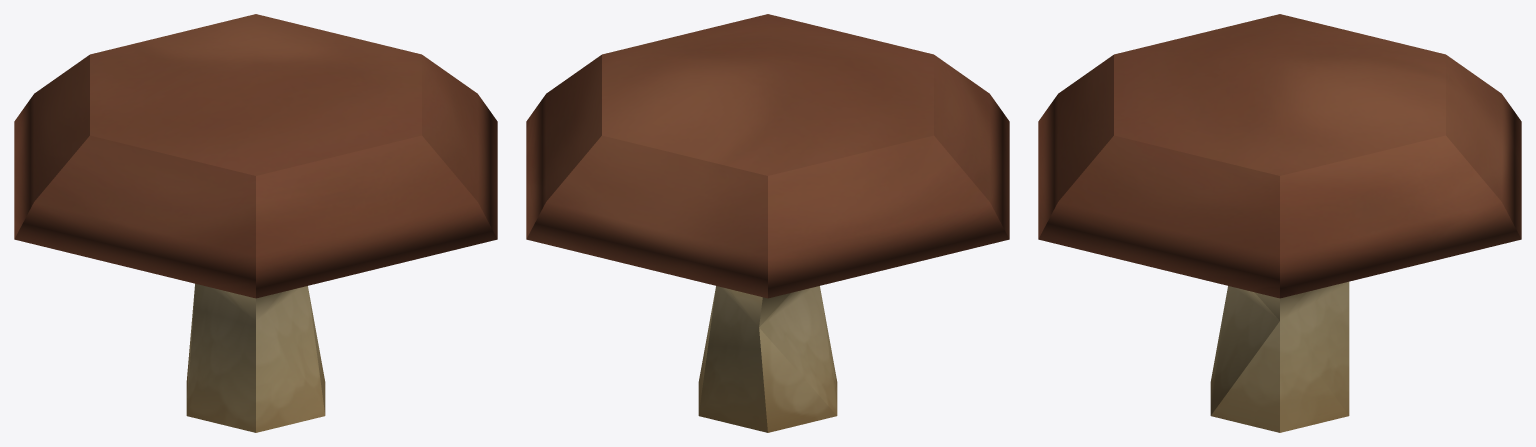
File: Mushroom_A_01.fbx
The picture shows the model from 3 angles, left to right: view 1: azimuth 30°, elevation 25°; view 2: azimuth 150°, elevation 25°; view 3: azimuth 270°, elevation 25°; orthographic projection.
Visible parts, largest first — view 1: Mushroom_A_01; view 2: Mushroom_A_01; view 3: Mushroom_A_01.
Part boxes in pixels (<box>): Mushroom_A_01: <box>14,14,497,432</box>; Mushroom_A_01: <box>526,14,1009,432</box>; Mushroom_A_01: <box>1038,14,1521,432</box>.
Size of the model in its own units: 88.41 by 62.46 by 76.56.
